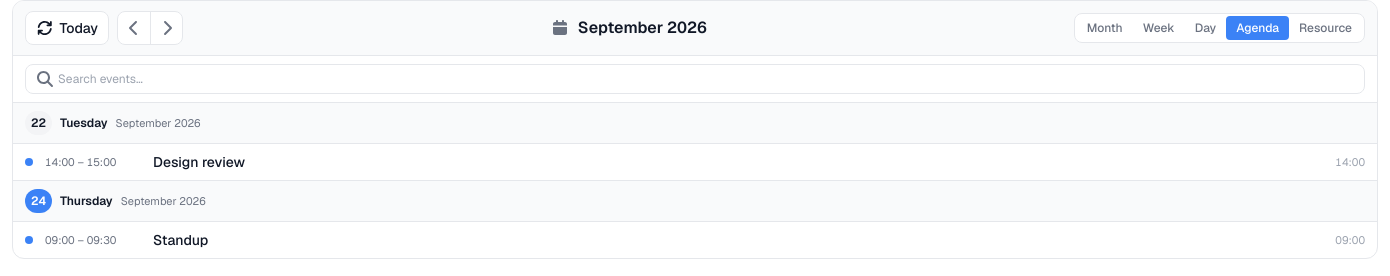
Test: <Calendar /> views › lists and searches events in the agenda view
expect the text "Standup" is shown: met, box [153,231,208,249]
expect the text "Design review" is shown: met, box [153,153,245,171]
Type "MOCKUPS" into the search field labelled "Search events…".
click(695, 79); type("MOCKUPS")  # box [25,64,1365,94]
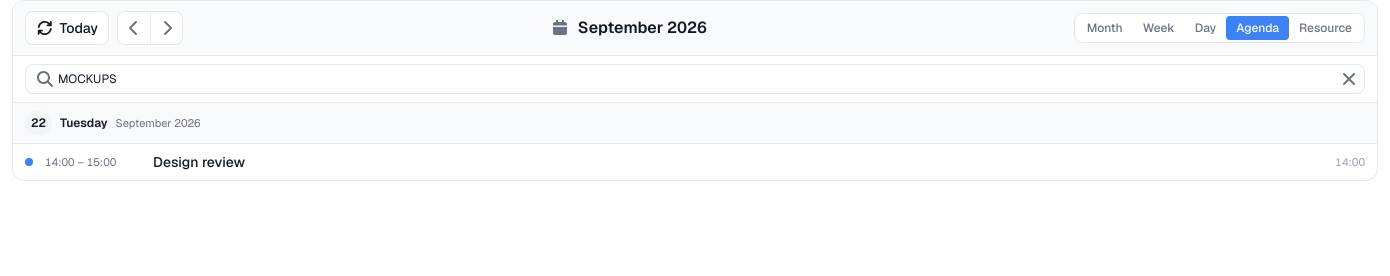
expect the text "Design review" is shown: met, box [153,153,245,171]
expect the button "Standup" is gone: met
Replace the text in the search field named "Search events…" with "nothing matches" at (695, 79), box [25,64,1365,94]
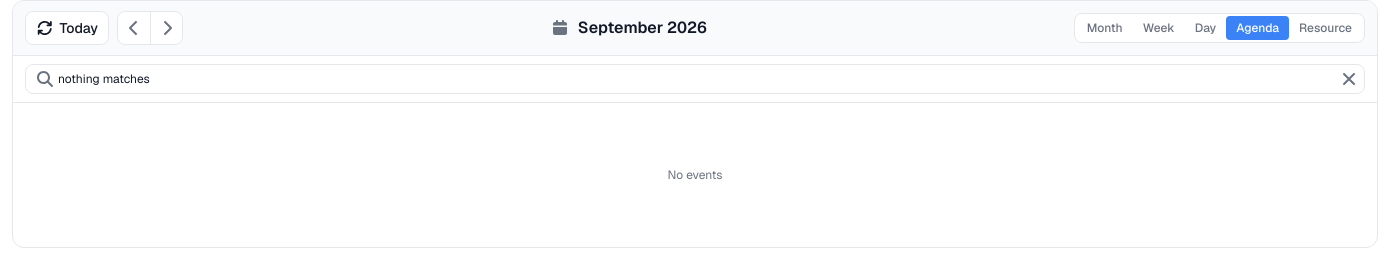
expect the text "No events" is shown: met, box [668,167,723,183]
Click the button named "Close".
click(1349, 79)  # box [1339,69,1359,89]
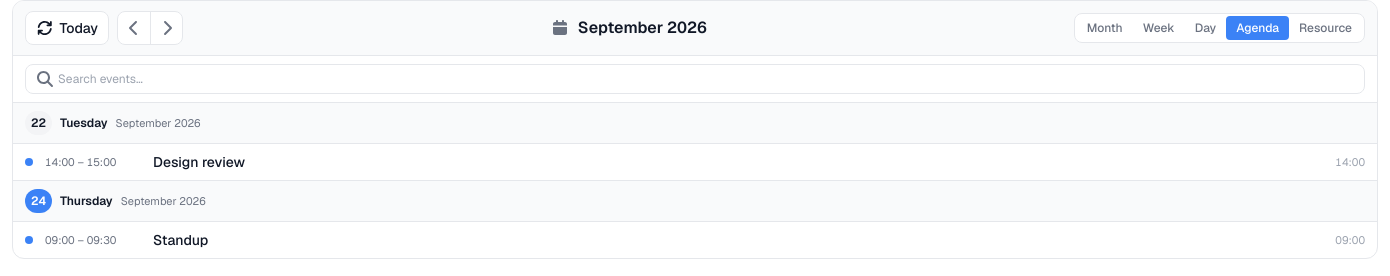
expect the search field labelled "Search events…" is empty: met, box [25,64,1365,94]
expect the text "Standup" is shown: met, box [153,231,208,249]
